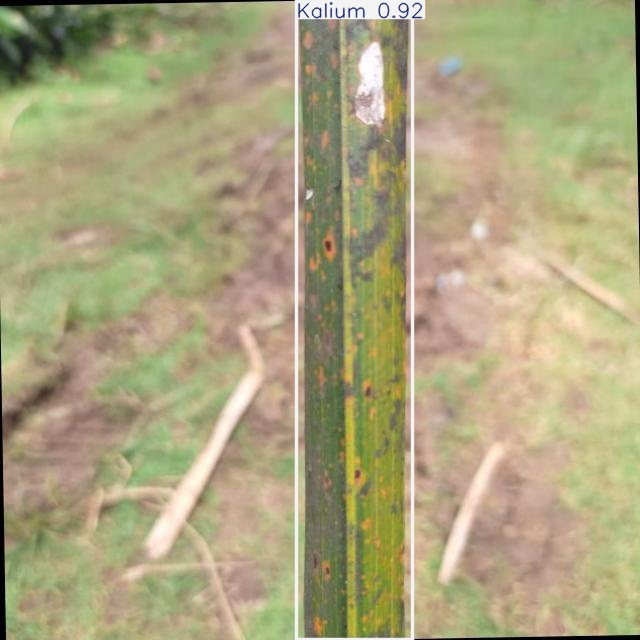Kalium: (297, 0, 412, 640)
